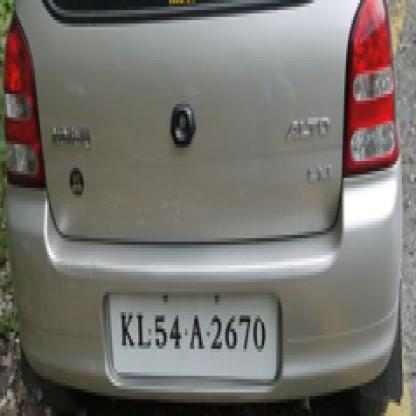license_plate: (108, 288, 276, 376)
